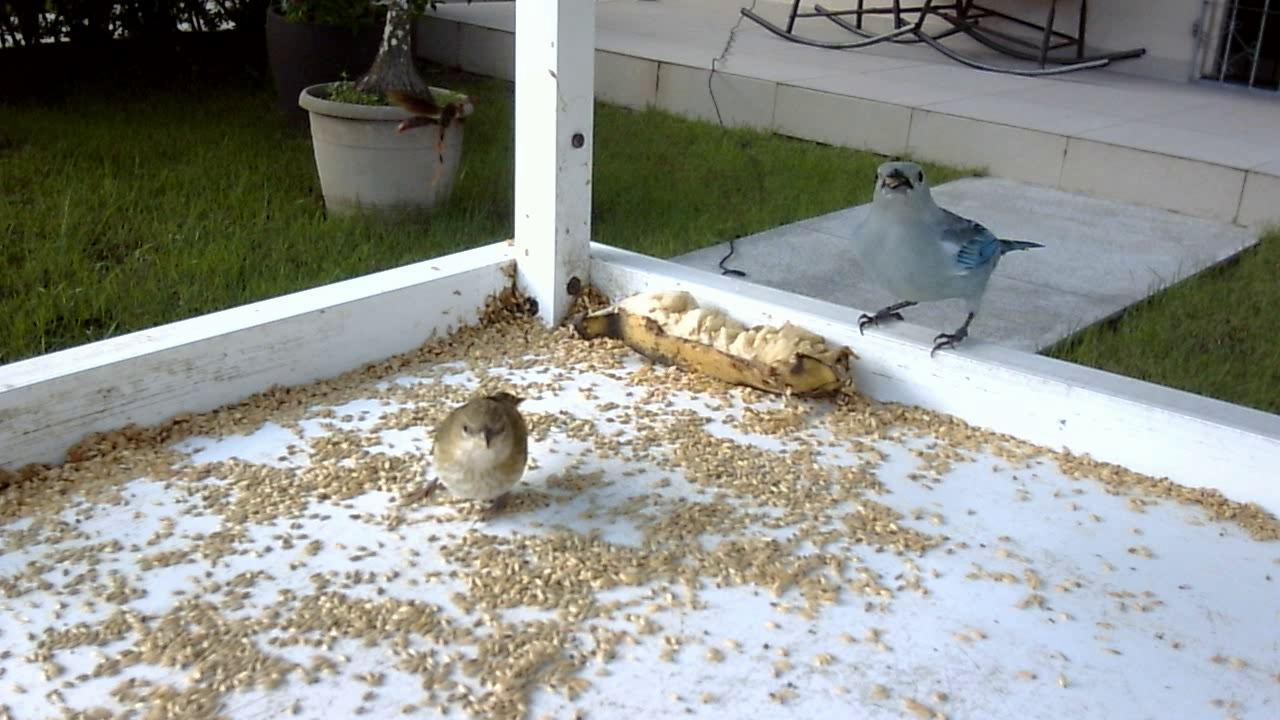canario_do_amazonas: (390, 378, 540, 530)
sanhaco_da_amazonia: (747, 155, 1054, 368)
